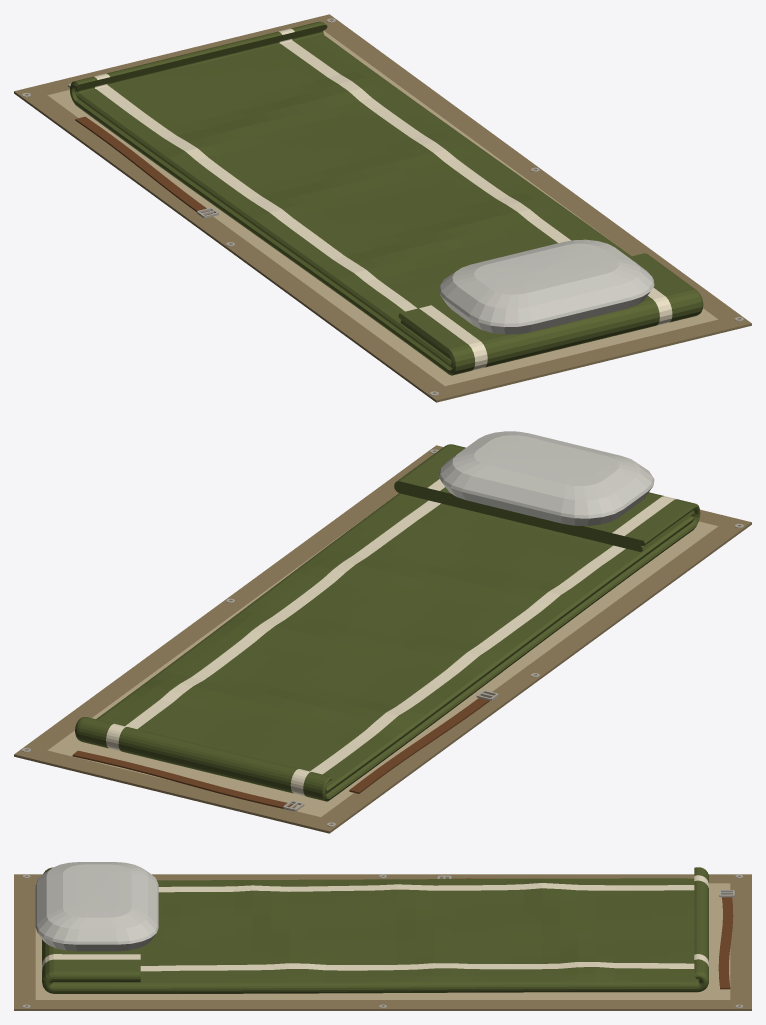
The model's file is bedroll.glb.
The picture shows the model from 3 angles, top to bottom: view 1: azimuth 30°, elevation 25°; view 2: azimuth 150°, elevation 25°; view 3: azimuth 270°, elevation 25°; orthographic projection. The views are drawn at different scales.
Parts seen in each view (by area): view 1: bedrollOpen; view 2: bedrollOpen; view 3: bedrollOpen.
Part boxes in pixels (left/top/right/bottom): bedrollOpen: left=14, top=14, right=751, bottom=402; bedrollOpen: left=14, top=431, right=751, bottom=833; bedrollOpen: left=14, top=862, right=751, bottom=1010.
Bounding box in the file's own units: 0.88 × 0.1625 × 2.04.
